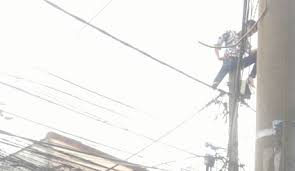infiltrator: (210, 15, 258, 99)
